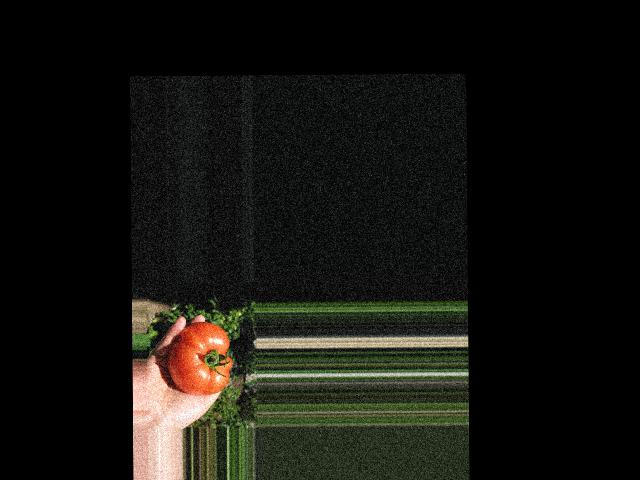tomato: (168, 321, 232, 394)
